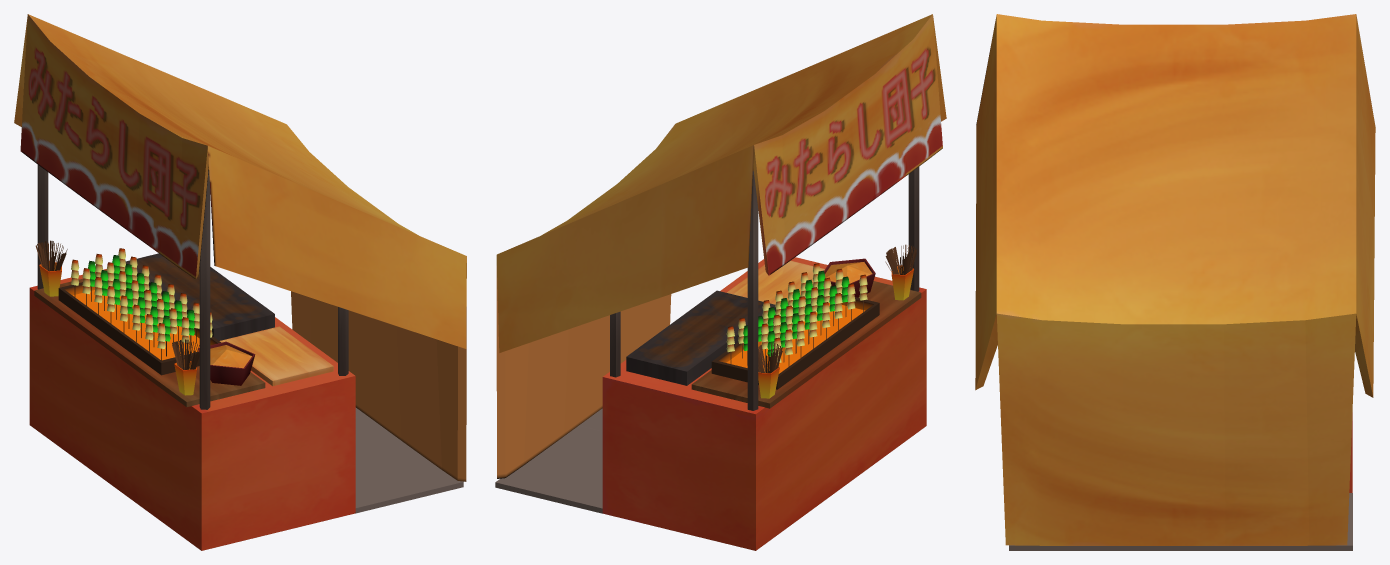
Rendered from FS_dango.fbx.
3 renders of one model, left to right at view 1: azimuth 30°, elevation 25°; view 2: azimuth 150°, elevation 25°; view 3: azimuth 270°, elevation 25°, orthographic.
Visible parts, largest first — view 1: FS_Dango; view 2: FS_Dango; view 3: FS_Dango.
Part boxes in pixels (bbox=[...]): FS_Dango: bbox=[14, 14, 466, 550]; FS_Dango: bbox=[495, 14, 946, 550]; FS_Dango: bbox=[975, 14, 1375, 550].
Bounding box in the file's own units: 331 × 473 × 419.
